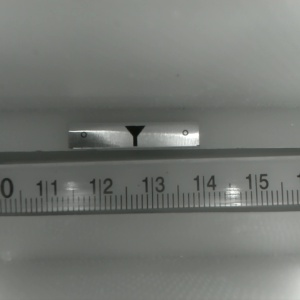0: (1, 177, 14, 198)
1: (141, 177, 148, 193), (35, 180, 42, 196), (50, 180, 57, 195), (88, 179, 95, 193), (193, 175, 199, 191), (246, 174, 252, 190), (296, 171, 300, 188)
2: (103, 178, 113, 193)
3: (154, 177, 164, 193)
4: (206, 176, 216, 191)
5: (259, 174, 268, 189)
finger: (122, 126, 145, 147)
